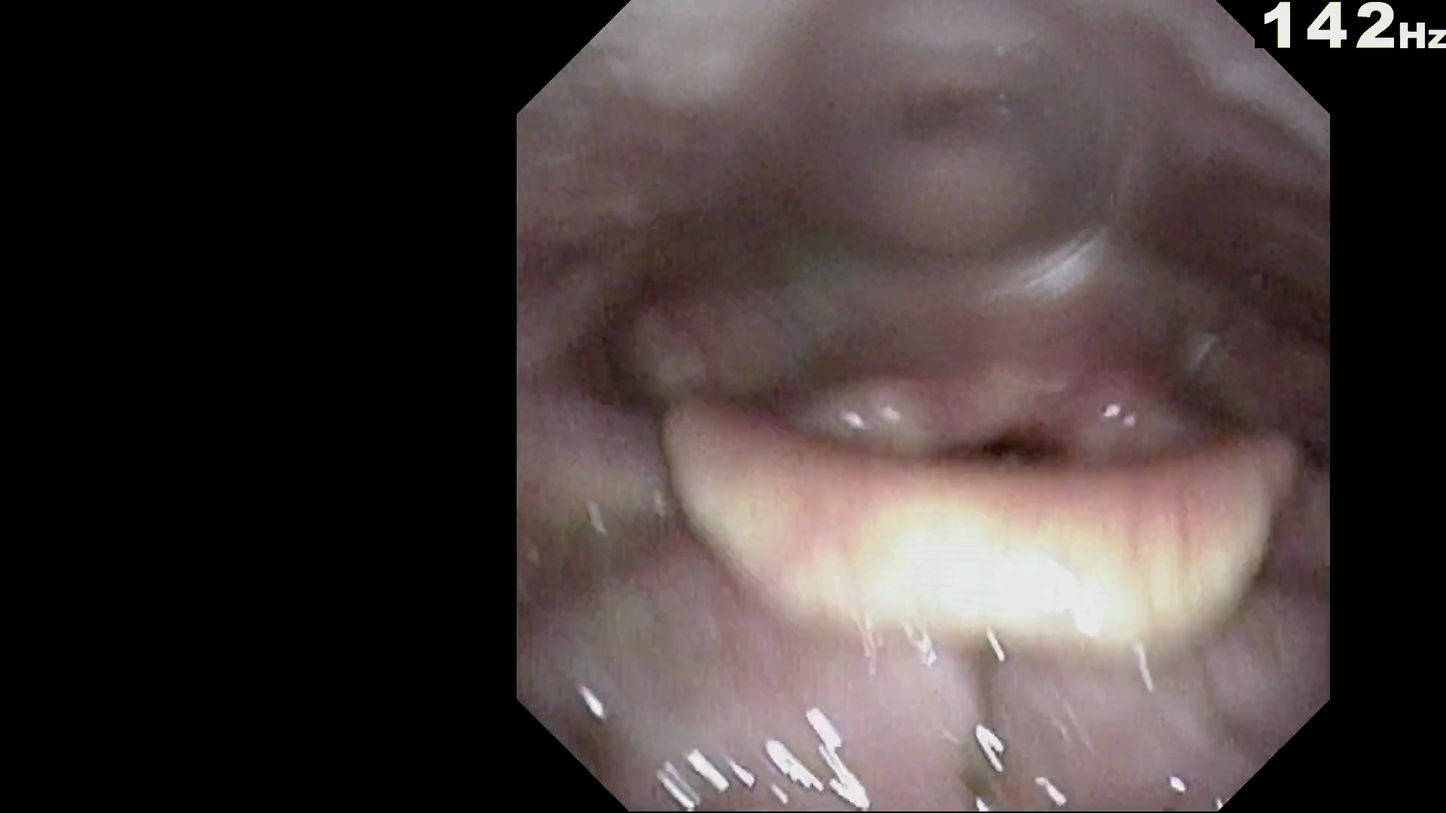epiglottis: (670, 423, 1286, 648)
